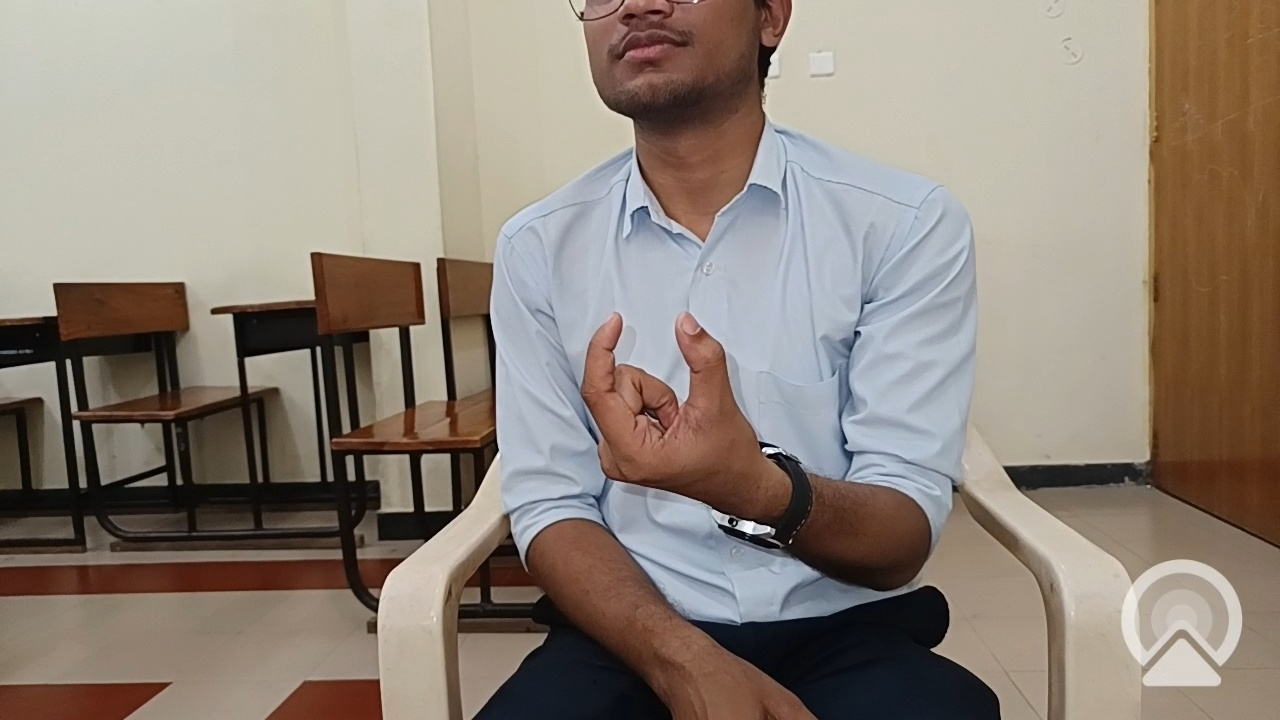U: (529, 263, 804, 562)
